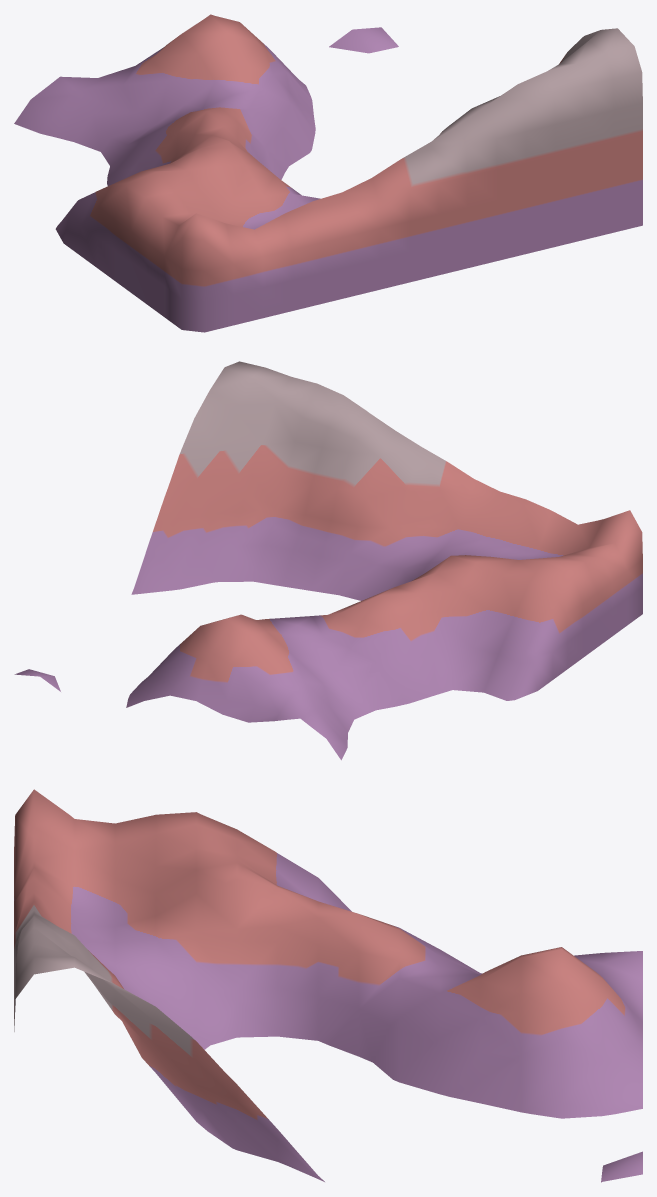
The model's file is __VOXELPIECE.fbx.
The picture shows the model from 3 angles, top to bottom: view 1: azimuth 30°, elevation 25°; view 2: azimuth 150°, elevation 25°; view 3: azimuth 270°, elevation 25°; orthographic projection. The views are drawn at different scales.
Parts seen in each view (by area): view 1: __VOXELPIECE; view 2: __VOXELPIECE; view 3: __VOXELPIECE.
Part boxes in pixels (x1=…): __VOXELPIECE: x1=14, y1=14, x2=642, y2=332; __VOXELPIECE: x1=14, y1=361, x2=642, y2=760; __VOXELPIECE: x1=14, y1=789, x2=642, y2=1182.
Bounding box in the file's own units: 24791 × 9353 × 24791.
1 material, 1 textured.
